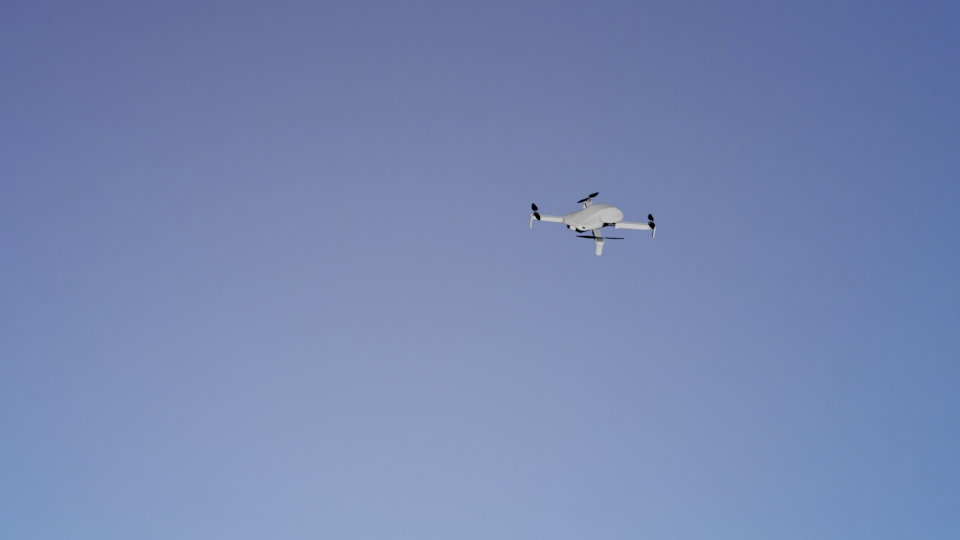drone: (524, 190, 654, 255)
